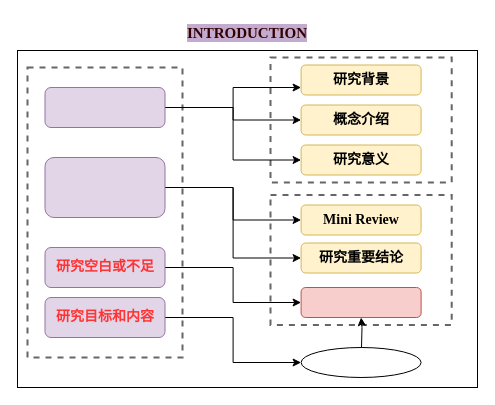
This 495x405 diagram has some shape labels left out. The shapes that lost their labels are listed below. From the top down, each one's centre as x and y in pixels, then its label:
pixel 104 107: 研究背景及意义
pixel 104 187: 国内外研究进展
pixel 360 302: 研究不足
pixel 360 362: 针对性的叙述
